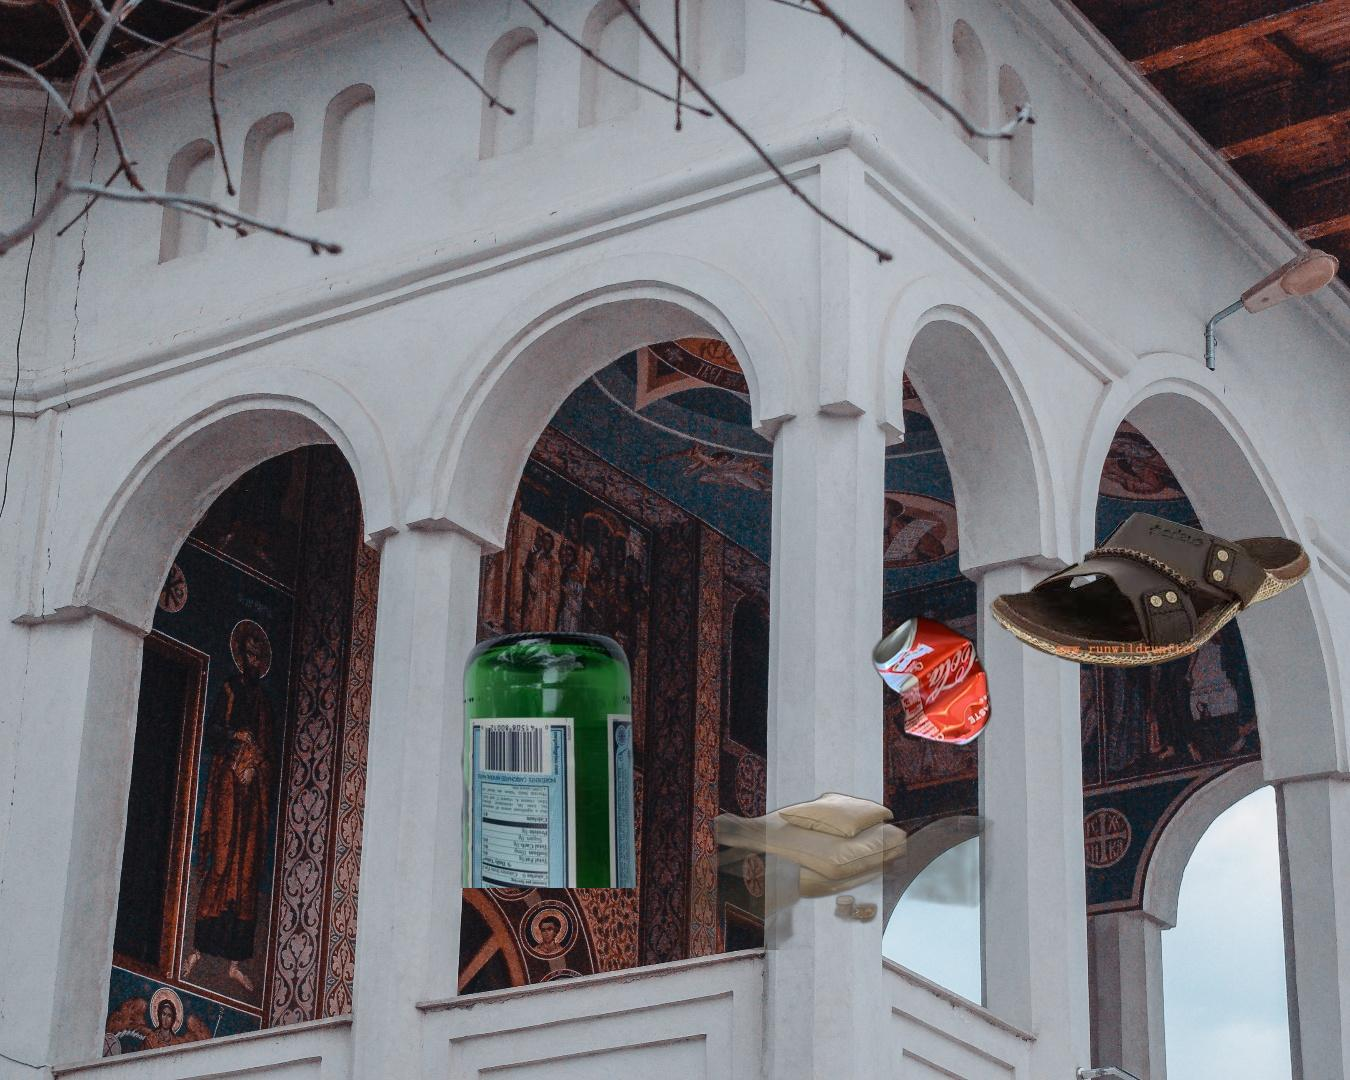glass: (456, 630, 641, 888)
metal-cans: (868, 611, 995, 752)
shoes: (989, 512, 1311, 668)
trashbox-cardboard: (646, 779, 1126, 950)
